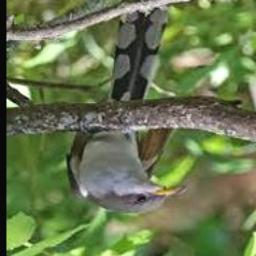Cuckoo: (66, 7, 187, 214)
